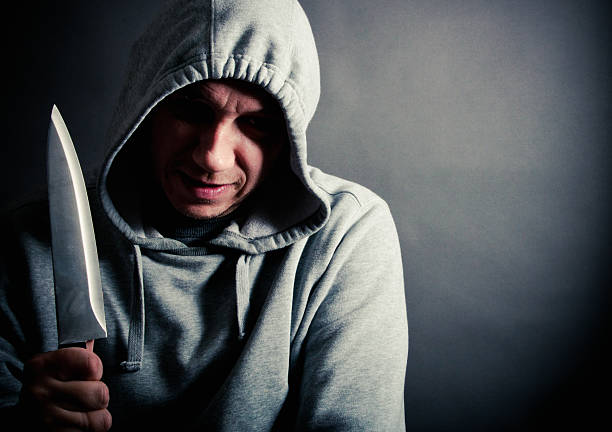knife: (43, 101, 110, 348)
